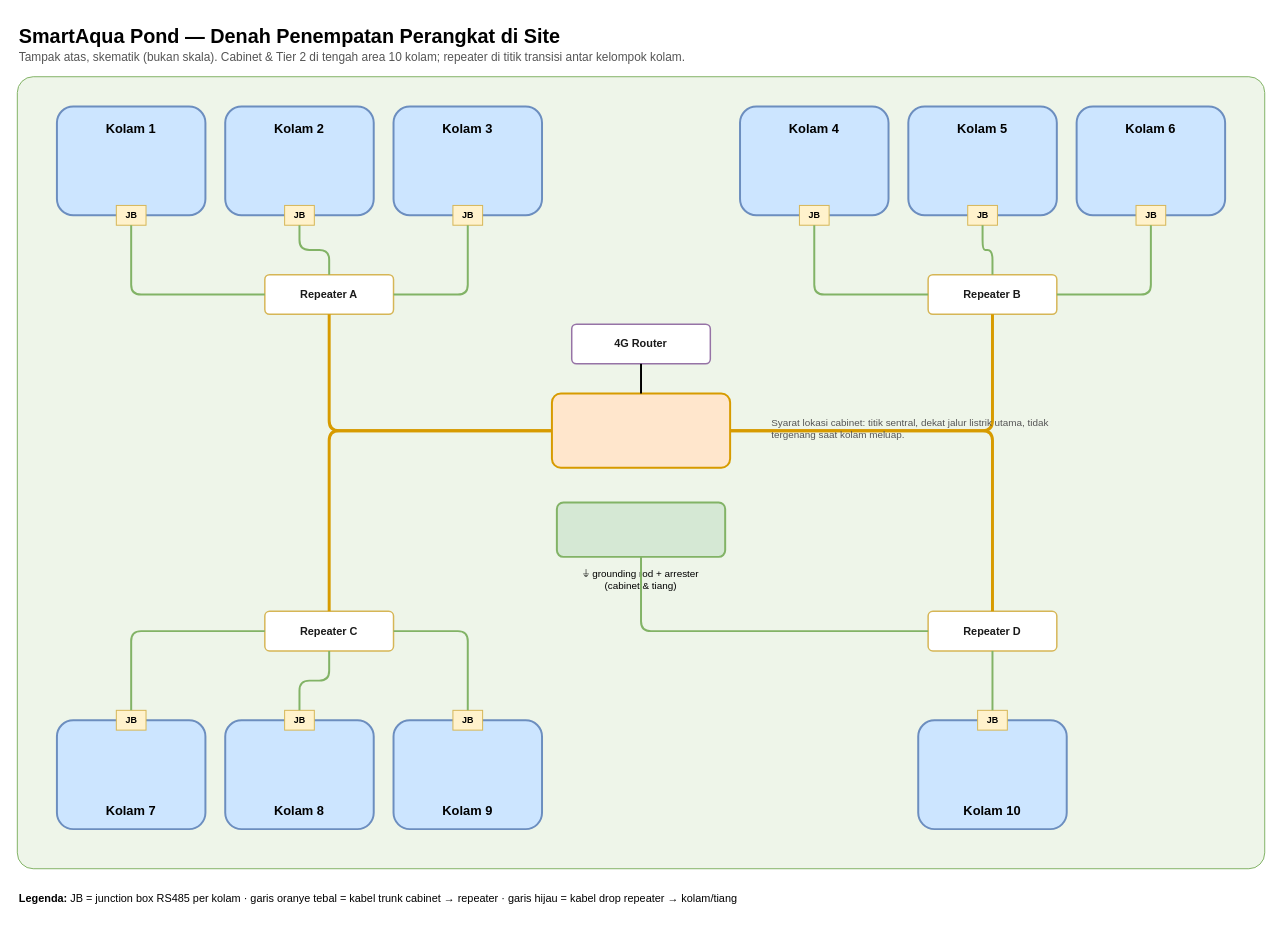
This 1282x930 diagram has some shape labels left out. Each missing label, with the centre of its shape:
"Cabinet IP66 Edge Aktif + Cadangan Mini UPS DC" belongs at point 640,430.
"Tiang Tier 2 (±2 m) Barometric + Pyranometer" belongs at point 640,529.
